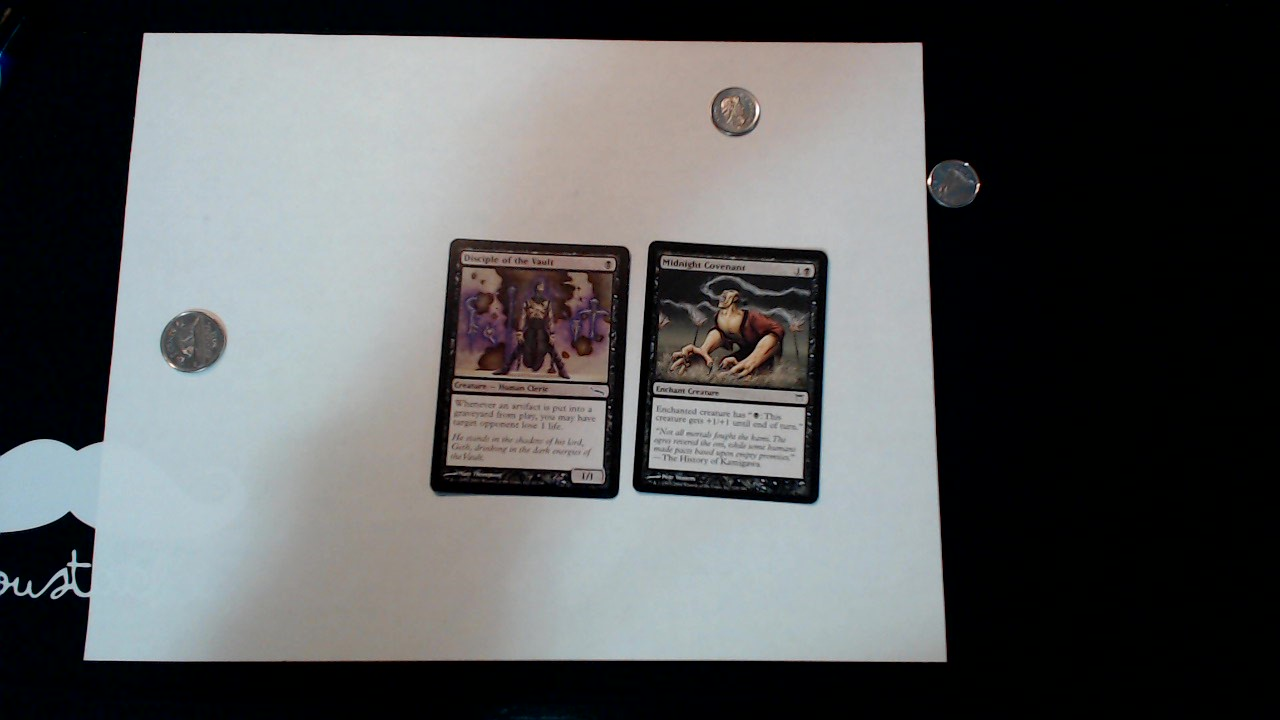MTG Card: (631, 229, 844, 515), (428, 227, 634, 503)
